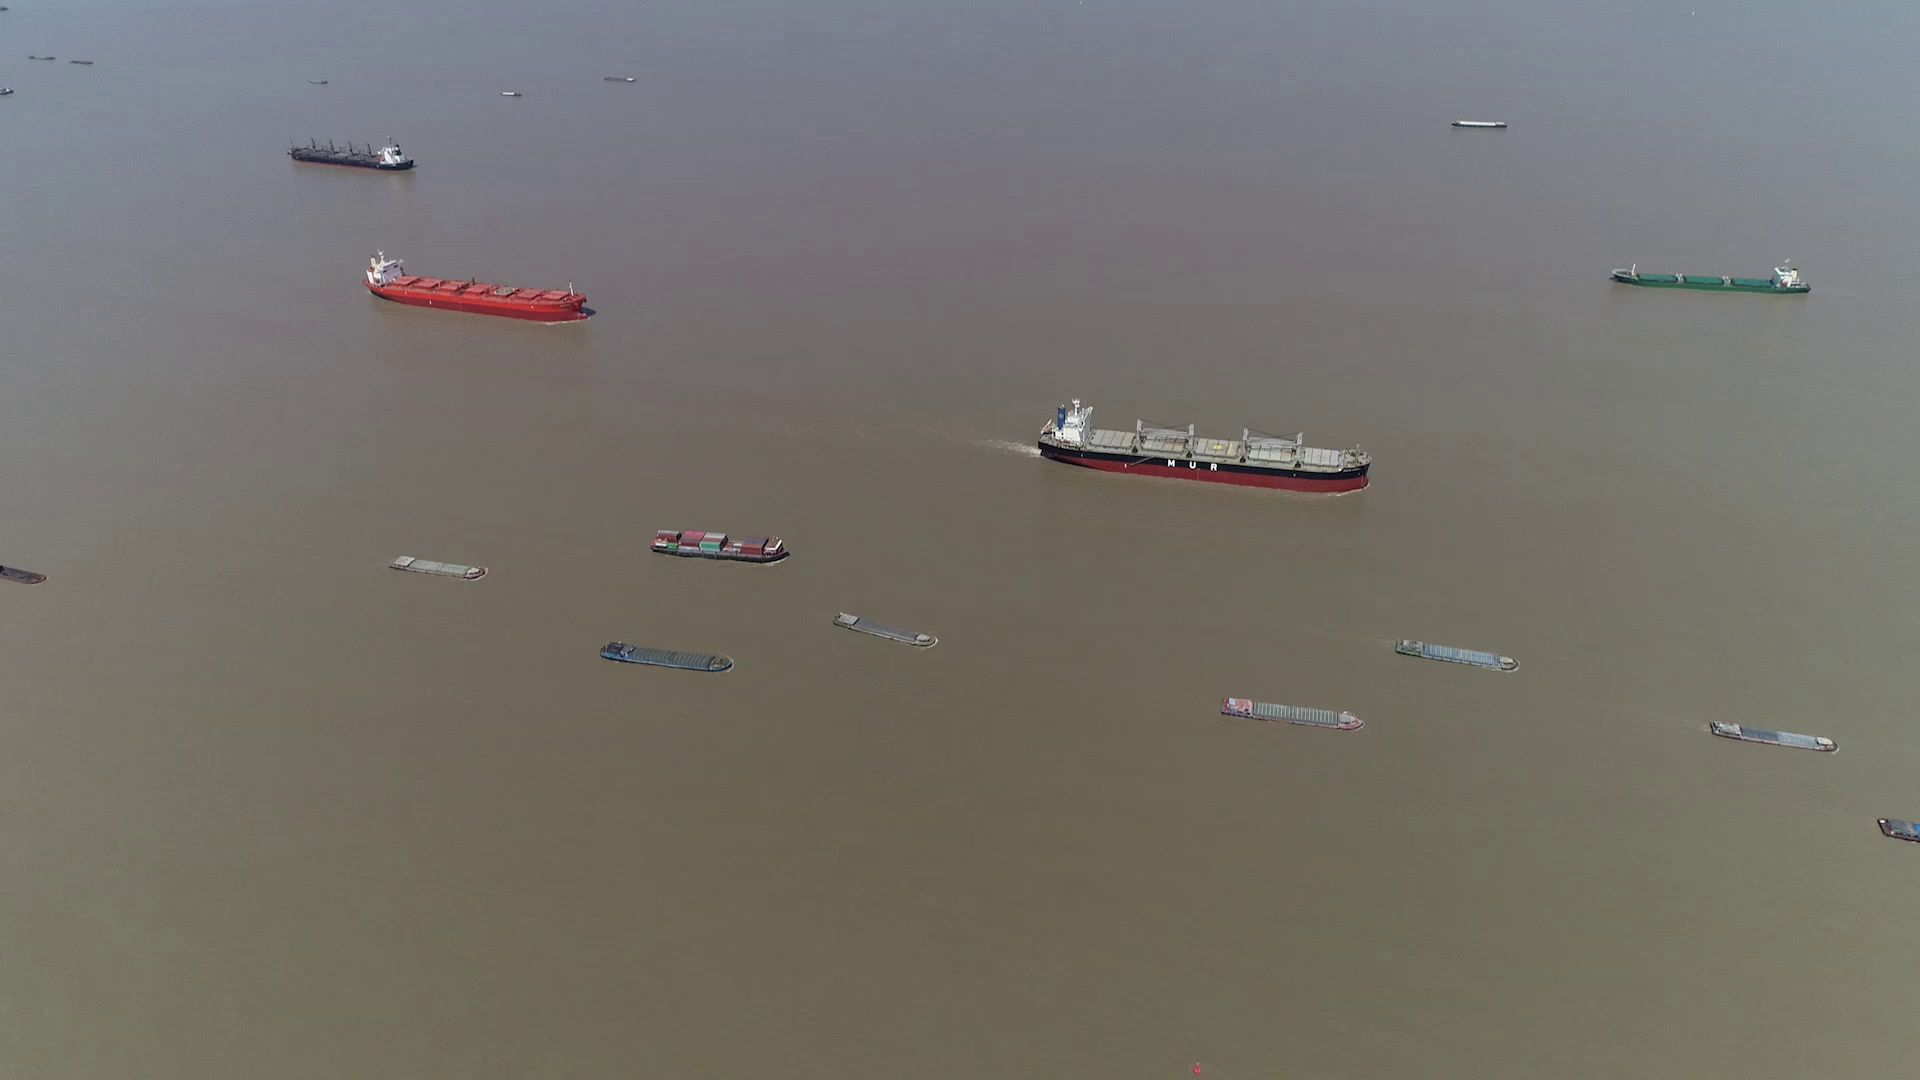ship: (1039, 400, 1367, 495), (360, 253, 589, 320), (626, 600, 781, 644), (1611, 261, 1811, 291), (650, 529, 789, 564), (1218, 694, 1362, 728), (1395, 636, 1518, 673), (597, 640, 733, 673), (289, 136, 415, 170), (833, 611, 942, 647), (1709, 720, 1834, 752), (388, 555, 487, 578), (0, 558, 46, 587), (1876, 816, 1919, 844), (1451, 120, 1505, 131), (0, 86, 13, 96)
